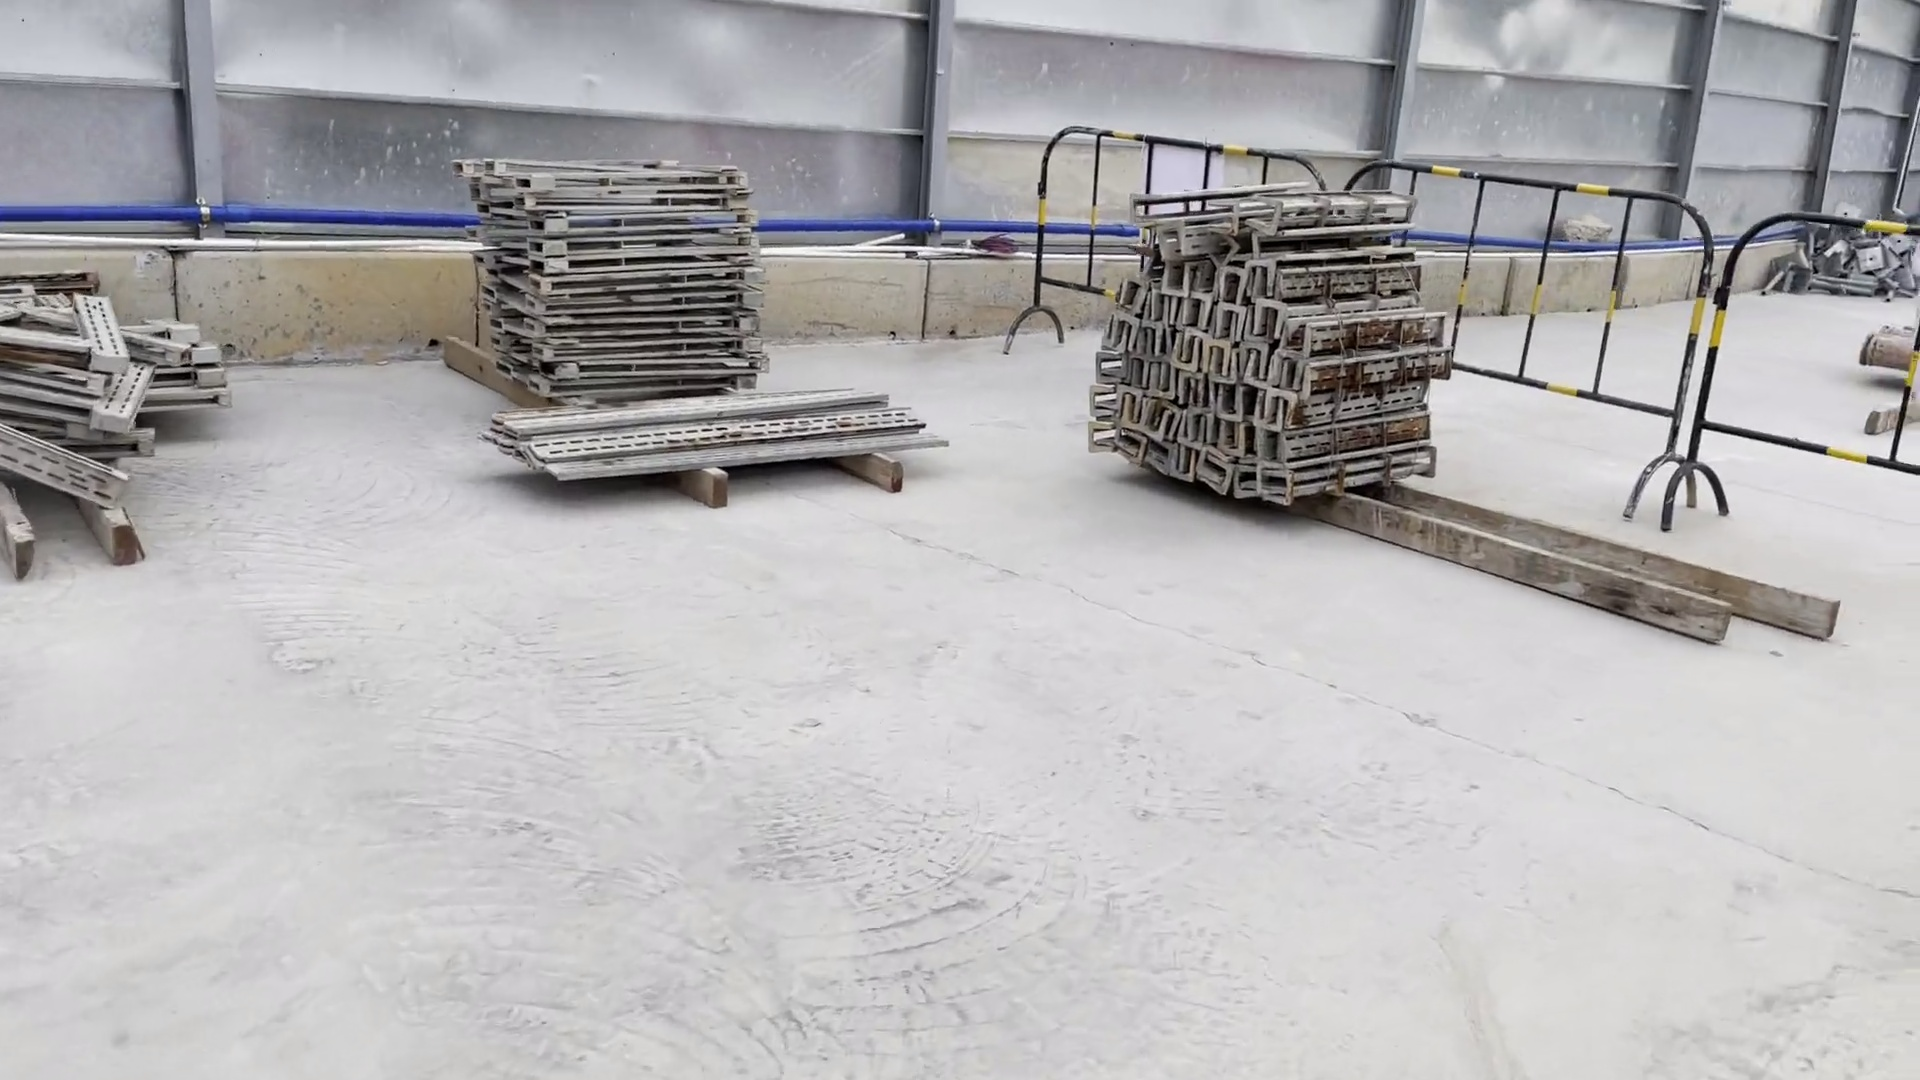fence: (1014, 120, 1920, 524)
